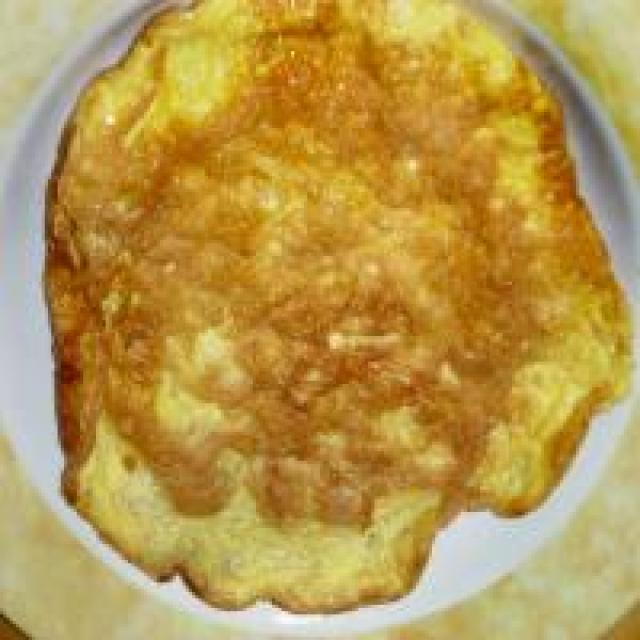telur_ayam_dadar: (39, 3, 634, 621)
